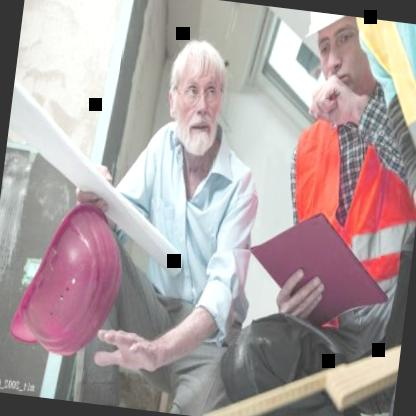head: (155, 30, 238, 164)
helmet: (301, 11, 372, 96)
